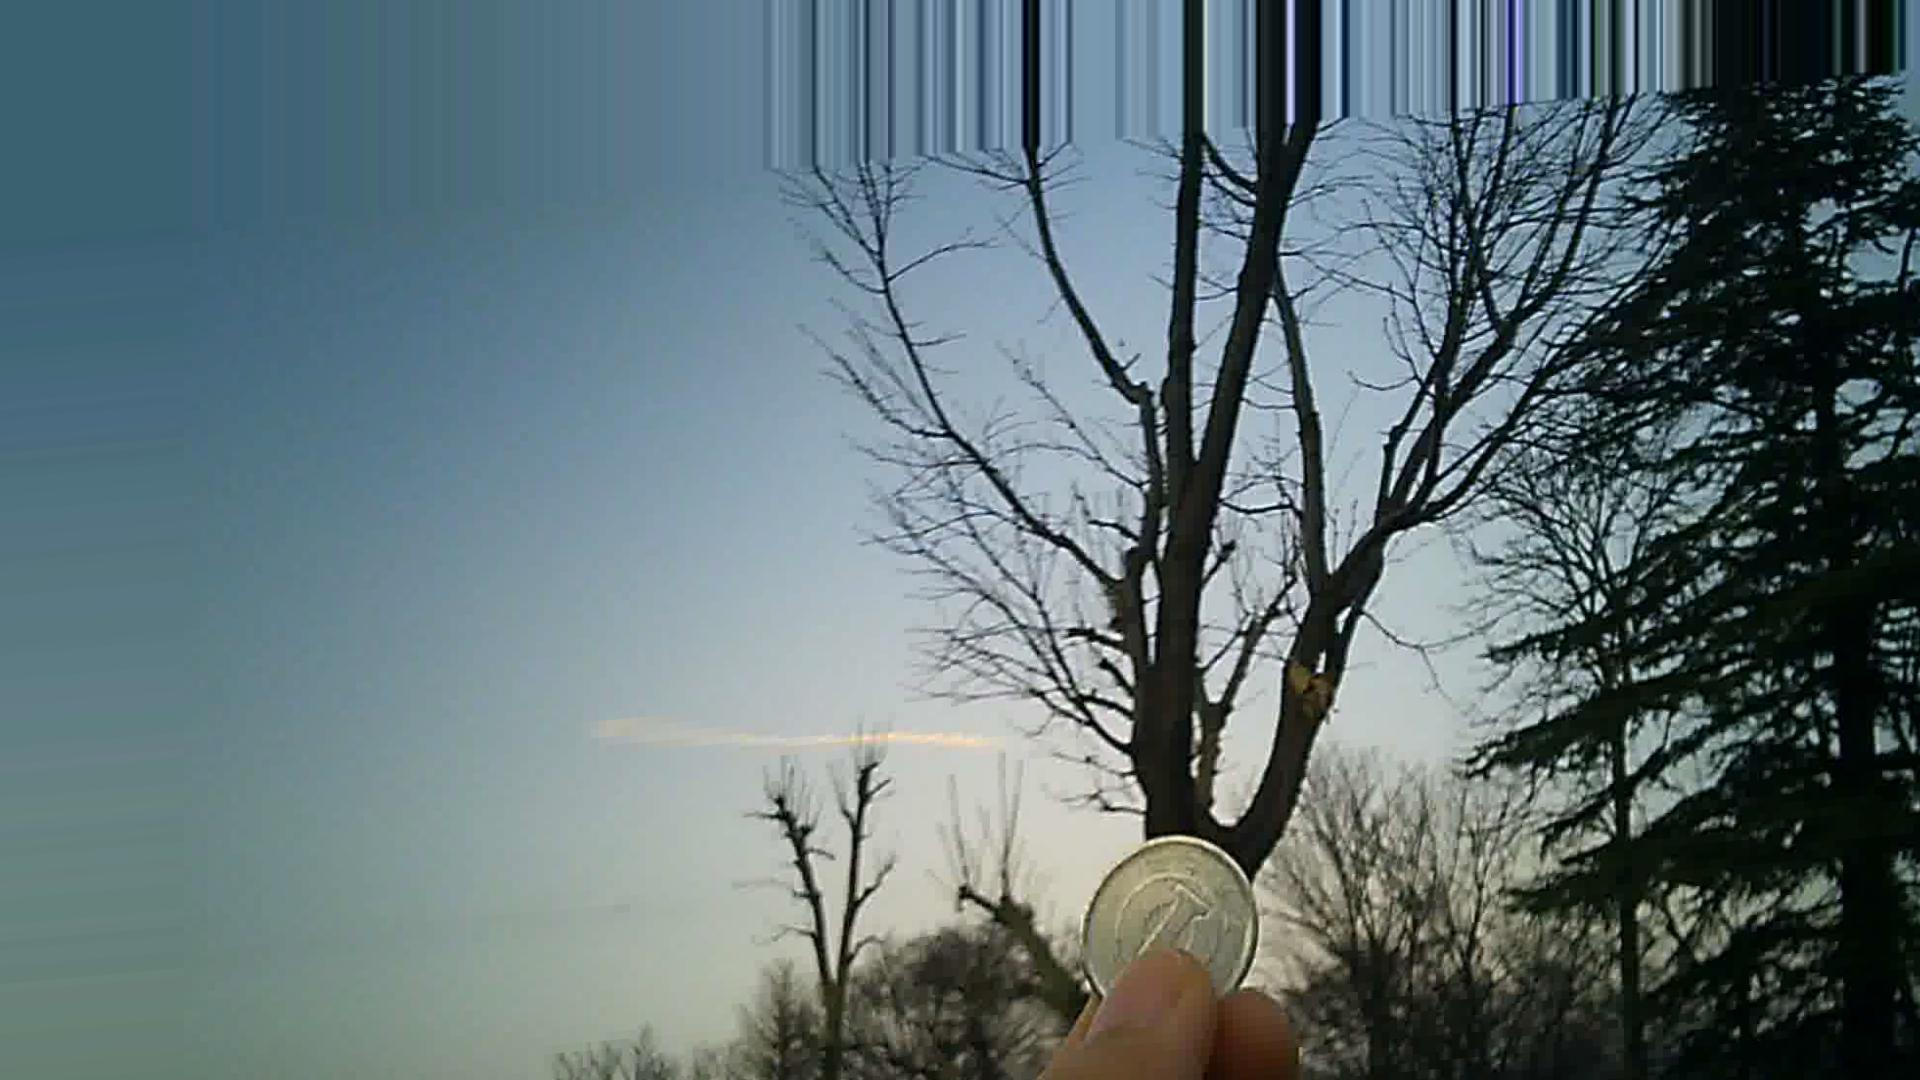1 Yen: (1069, 833, 1263, 1010)
